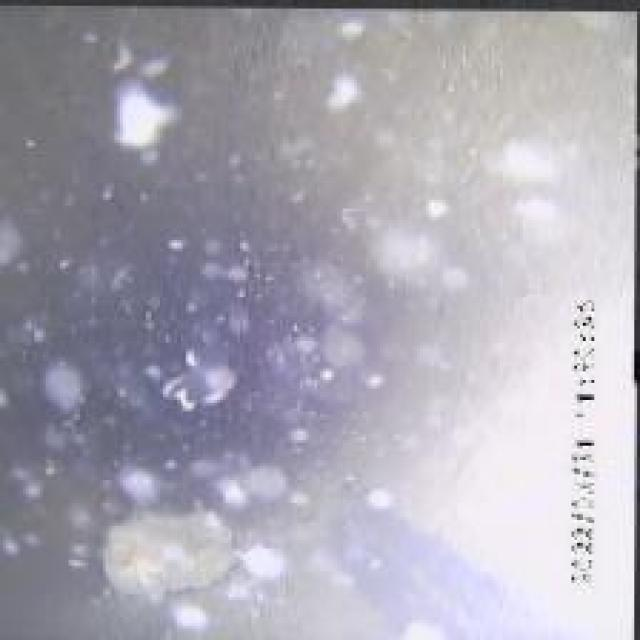stone: (94, 512, 249, 594)
